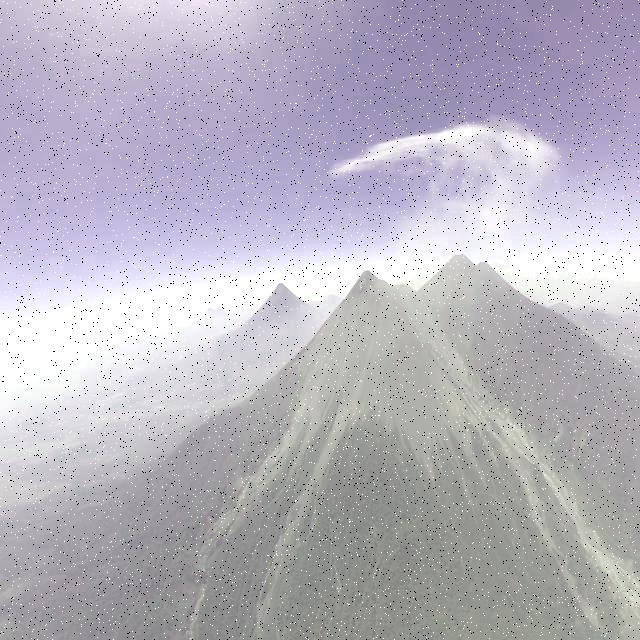Summit: (347, 266, 390, 295)
